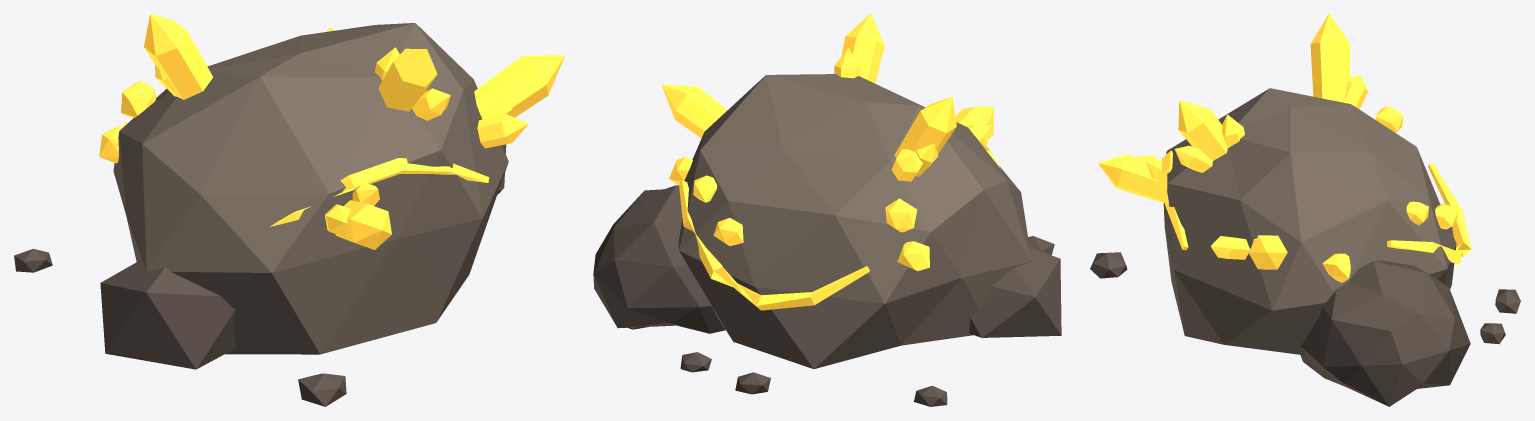
The model's file is mining-rock.glb.
The picture shows the model from 3 angles, left to right: view 1: azimuth 30°, elevation 25°; view 2: azimuth 150°, elevation 25°; view 3: azimuth 270°, elevation 25°; orthographic projection. The views are drawn at different scales.
Parts seen in each view (by area): view 1: MiningRock_Rock, MiningRock_Gold, MiningRock_RockDark; view 2: MiningRock_Rock, MiningRock_RockDark, MiningRock_Gold; view 3: MiningRock_Rock, MiningRock_RockDark, MiningRock_Gold.
Part boxes in pixels (x1,y1,x2,y2): MiningRock_Rock: [113, 23, 508, 354]; MiningRock_Gold: [99, 14, 564, 249]; MiningRock_RockDark: [14, 144, 506, 406]; MiningRock_Rock: [678, 74, 1031, 368]; MiningRock_RockDark: [593, 185, 1061, 406]; MiningRock_Gold: [662, 14, 1000, 310]; MiningRock_Rock: [1163, 88, 1456, 355]; MiningRock_RockDark: [1090, 226, 1520, 406]; MiningRock_Gold: [1098, 14, 1471, 282].
Bounding box in the file's own units: 6.43 × 3.91 × 6.26.
